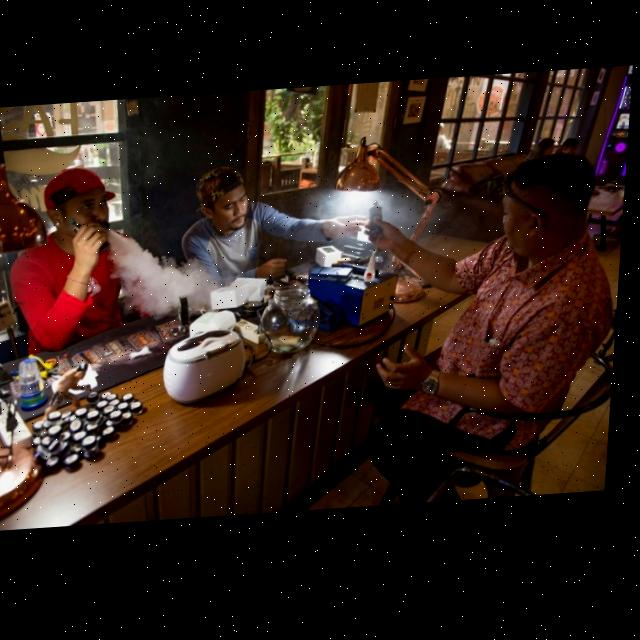vape: (71, 216, 115, 257), (371, 204, 387, 239)
